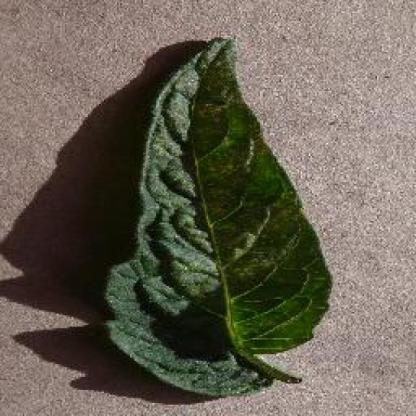Tomato_Spider_Mites: (105, 35, 330, 394)
